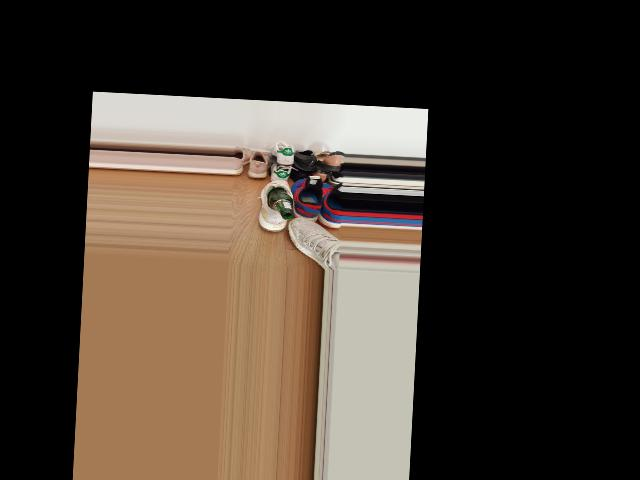beer: (266, 187, 294, 220)
